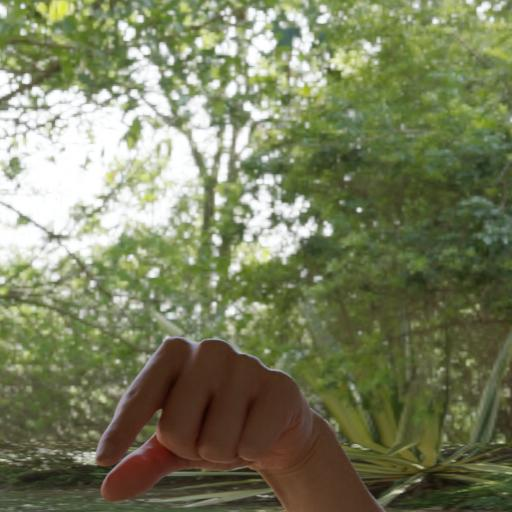Q: (77, 325, 350, 512)
